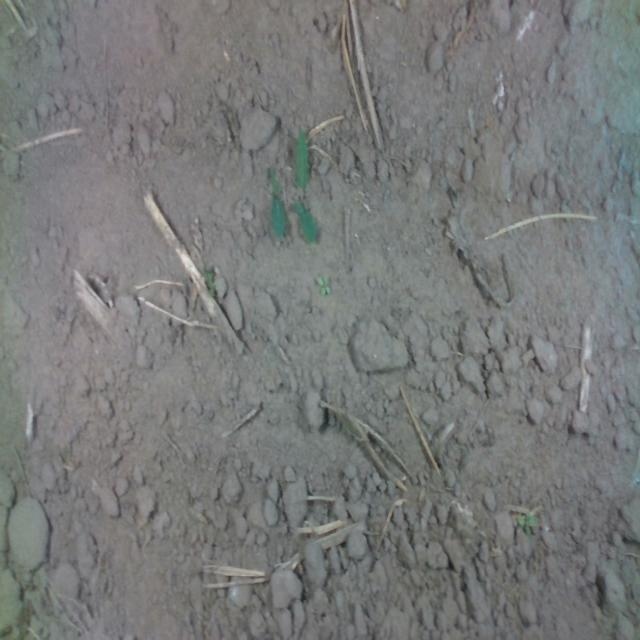weed: (292, 128, 318, 244), (268, 163, 286, 239), (314, 269, 330, 297)
